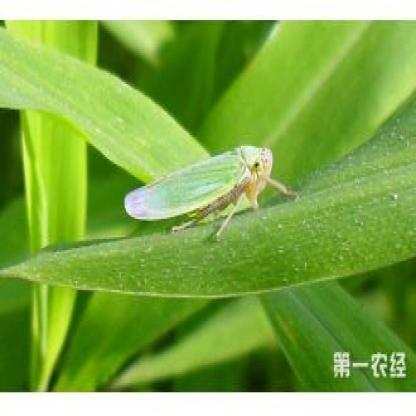Green-Leafhopper: (119, 132, 298, 233)
